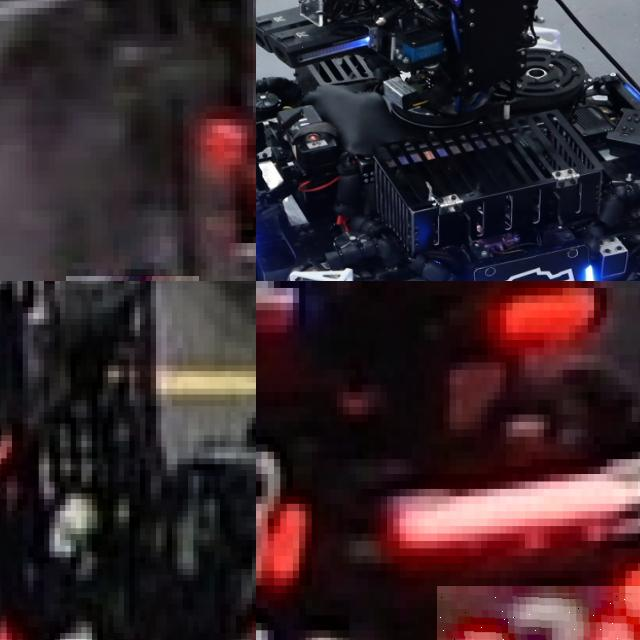Bs: (466, 245, 598, 281)
R1: (0, 615, 166, 640)
R3: (437, 585, 640, 640), (256, 436, 318, 600)
